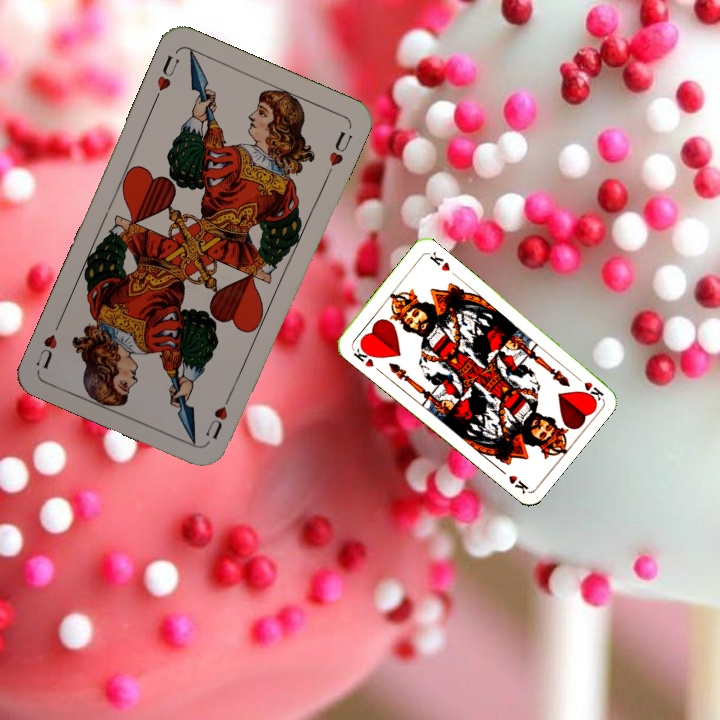HK: (570, 370, 606, 403), (348, 341, 378, 370)
HU: (201, 388, 235, 442), (150, 51, 182, 104)
